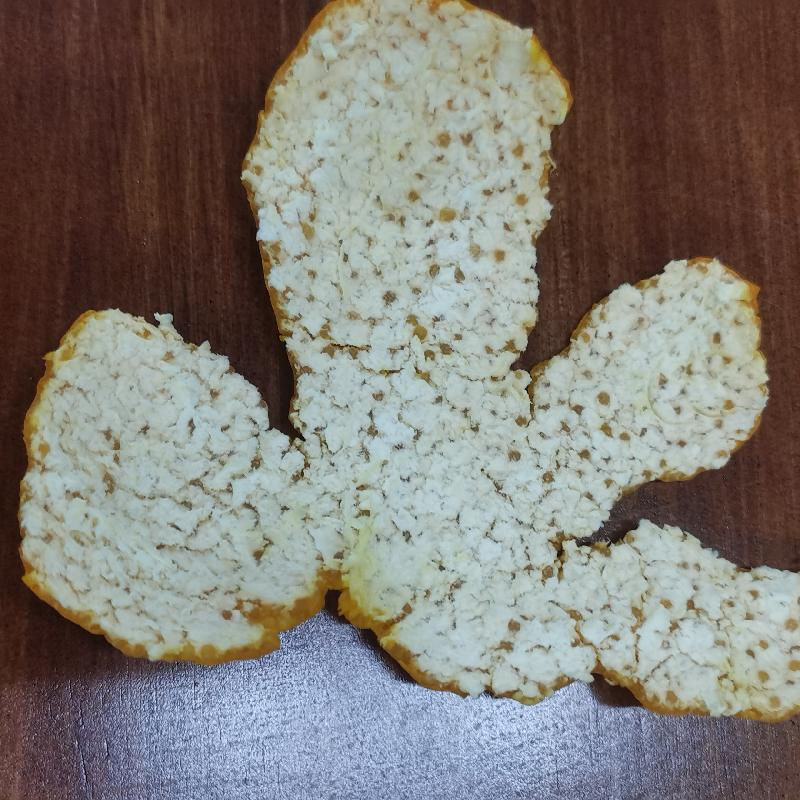orange: (16, 3, 800, 724)
